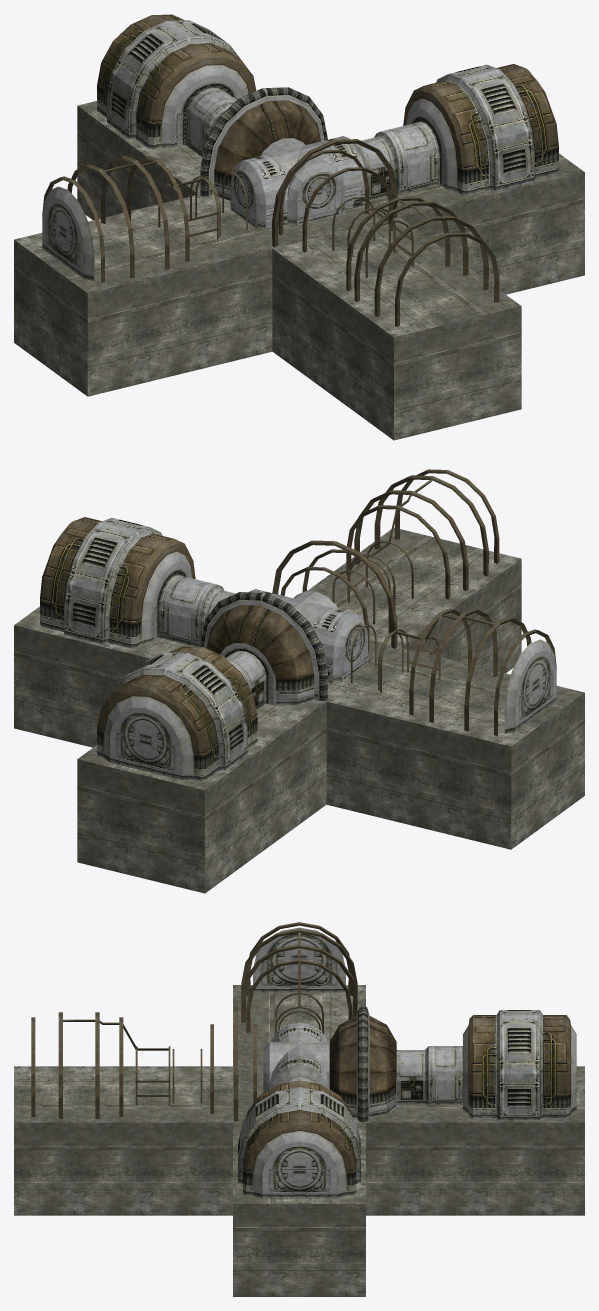
File: ins_shield_generator_const_2_l0.fbx
3 views of the same model, one above another, from view 1: azimuth 30°, elevation 25°; view 2: azimuth 150°, elevation 25°; view 3: azimuth 270°, elevation 25° (orthographic). The views are drawn at different scales.
Visible parts, largest first — view 1: mesh_node; view 2: mesh_node; view 3: mesh_node.
Boxes of the visible parts, x1,y1,x2,y2 form: mesh_node: (14, 14, 584, 440); mesh_node: (14, 469, 584, 893); mesh_node: (14, 922, 584, 1296).
Size of the model in its own units: 15.76 by 5.91 by 17.39.
